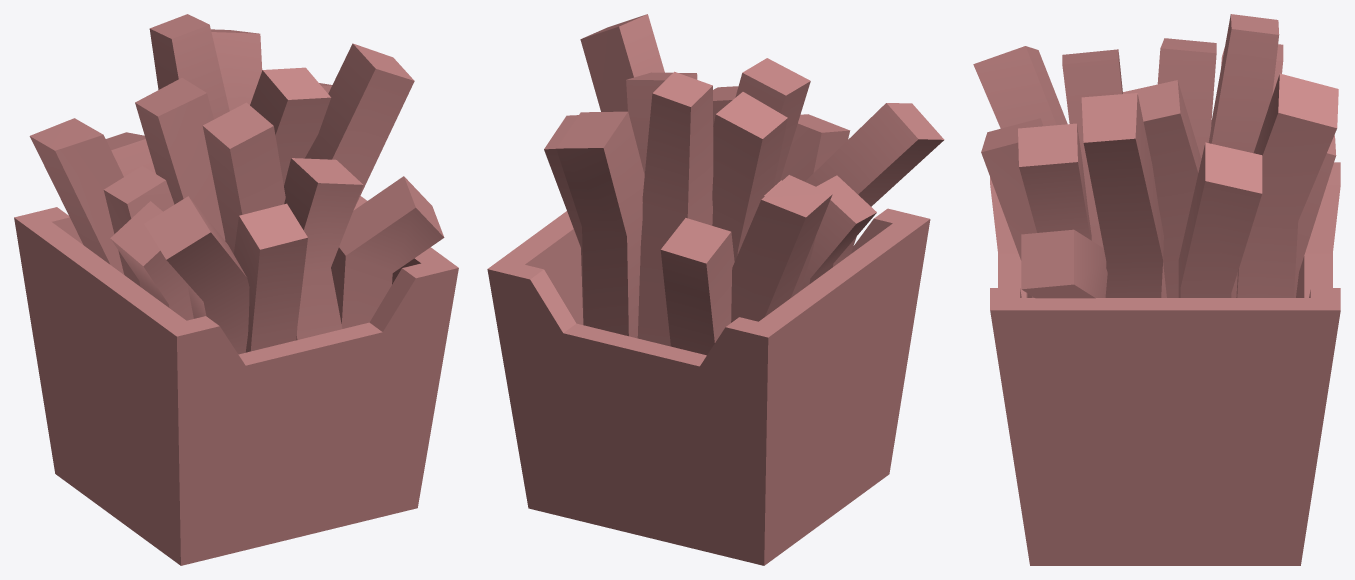
File: pizza_french_fries.glb
3 views of the same model, side by side, from view 1: azimuth 30°, elevation 25°; view 2: azimuth 150°, elevation 25°; view 3: azimuth 270°, elevation 25° (orthographic). The views are drawn at different scales.
Parts seen in each view (by area): view 1: french_fries; view 2: french_fries; view 3: french_fries.
Boxes of the visible parts, x1=… form: french_fries: x1=14, y1=14, x2=458, y2=565; french_fries: x1=487, y1=14, x2=944, y2=565; french_fries: x1=973, y1=14, x2=1340, y2=565.
Size of the model in its own units: 0.9793 by 1.35 by 0.9434.
